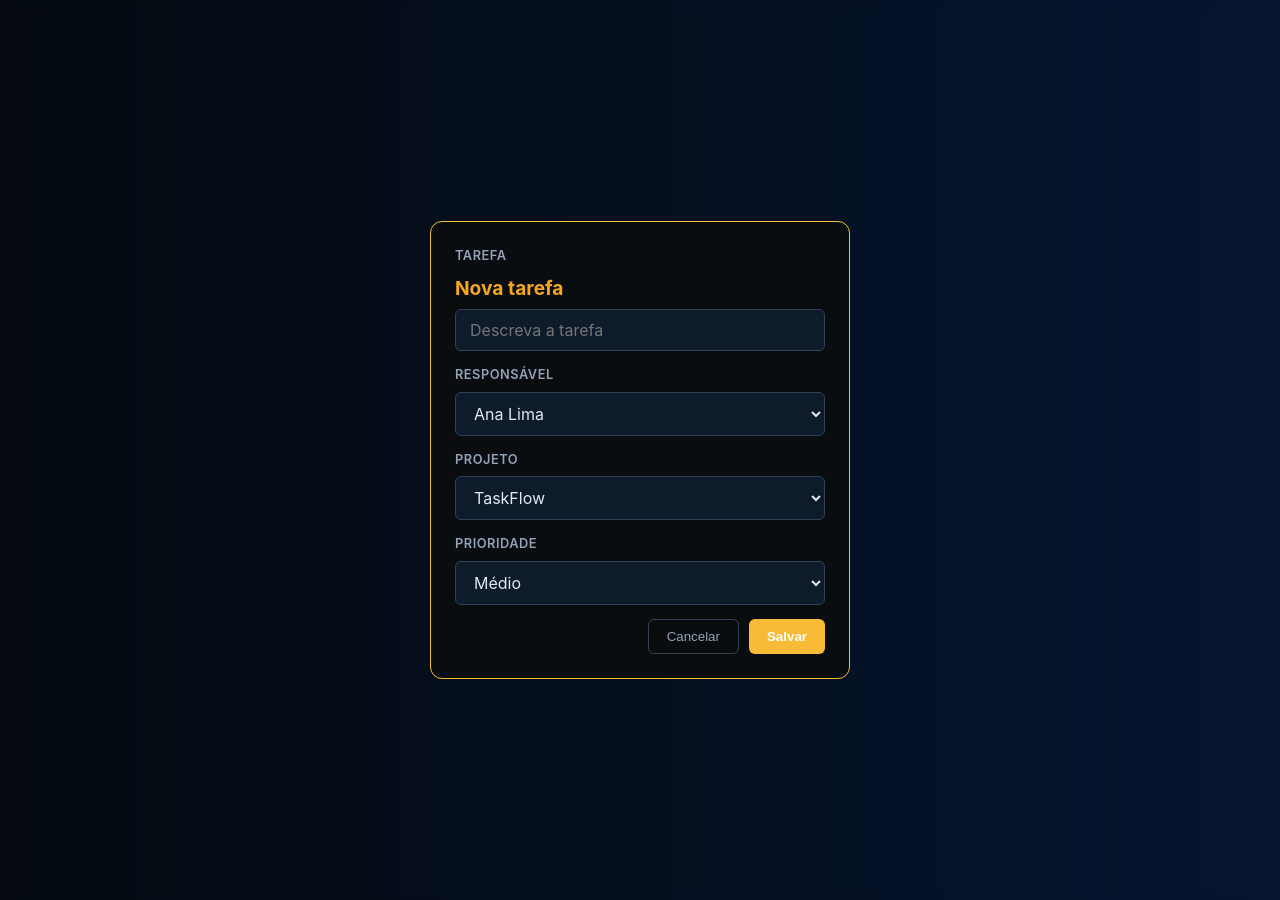
Scenario: a API recusa: mostra os erros e não fecha
Step 1. Click the button "Salvar" → (787, 636), box left=749, top=619, right=825, bottom=654
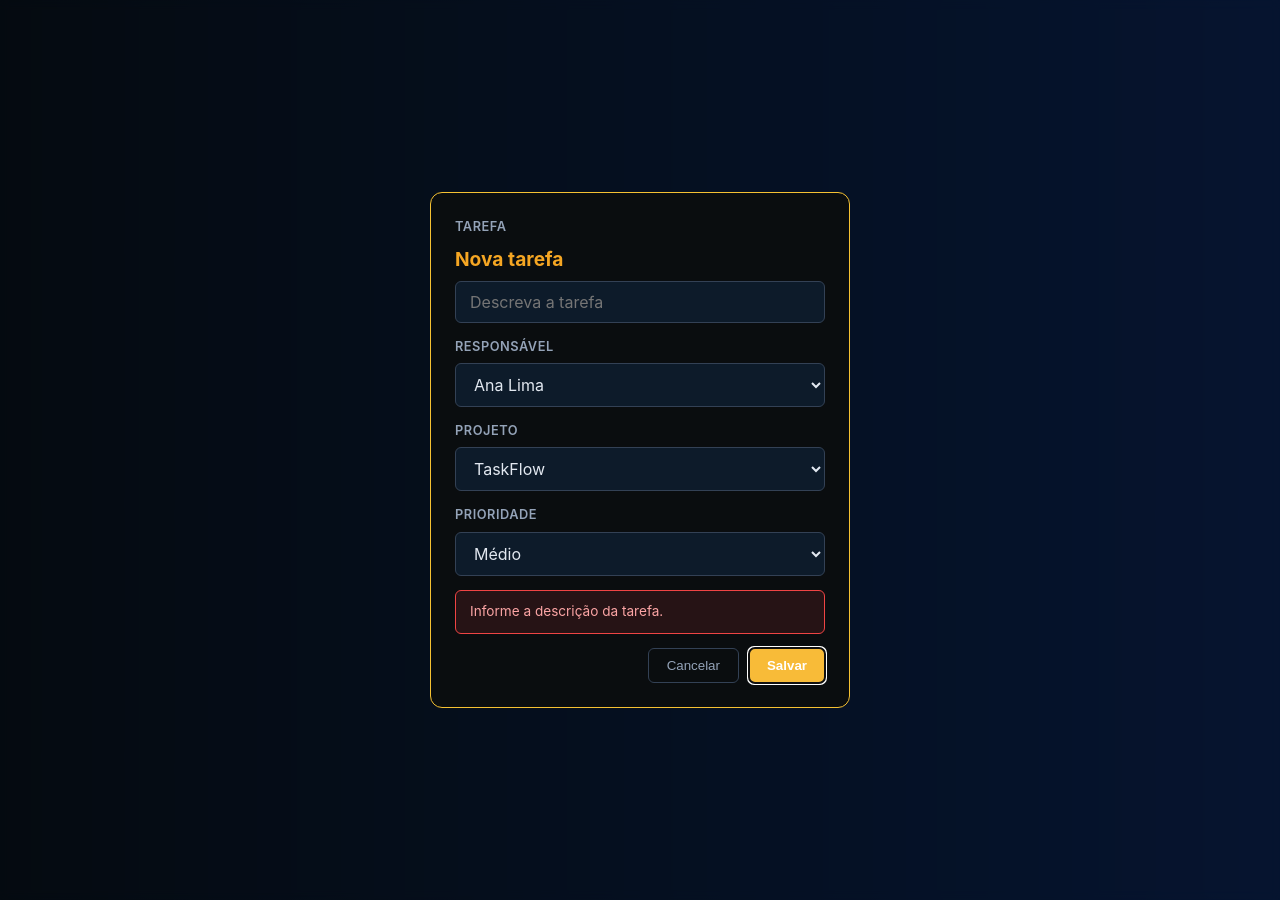
Expected: the list item "Informe a descrição da tarefa." is shown, left=470, top=603, right=663, bottom=619
